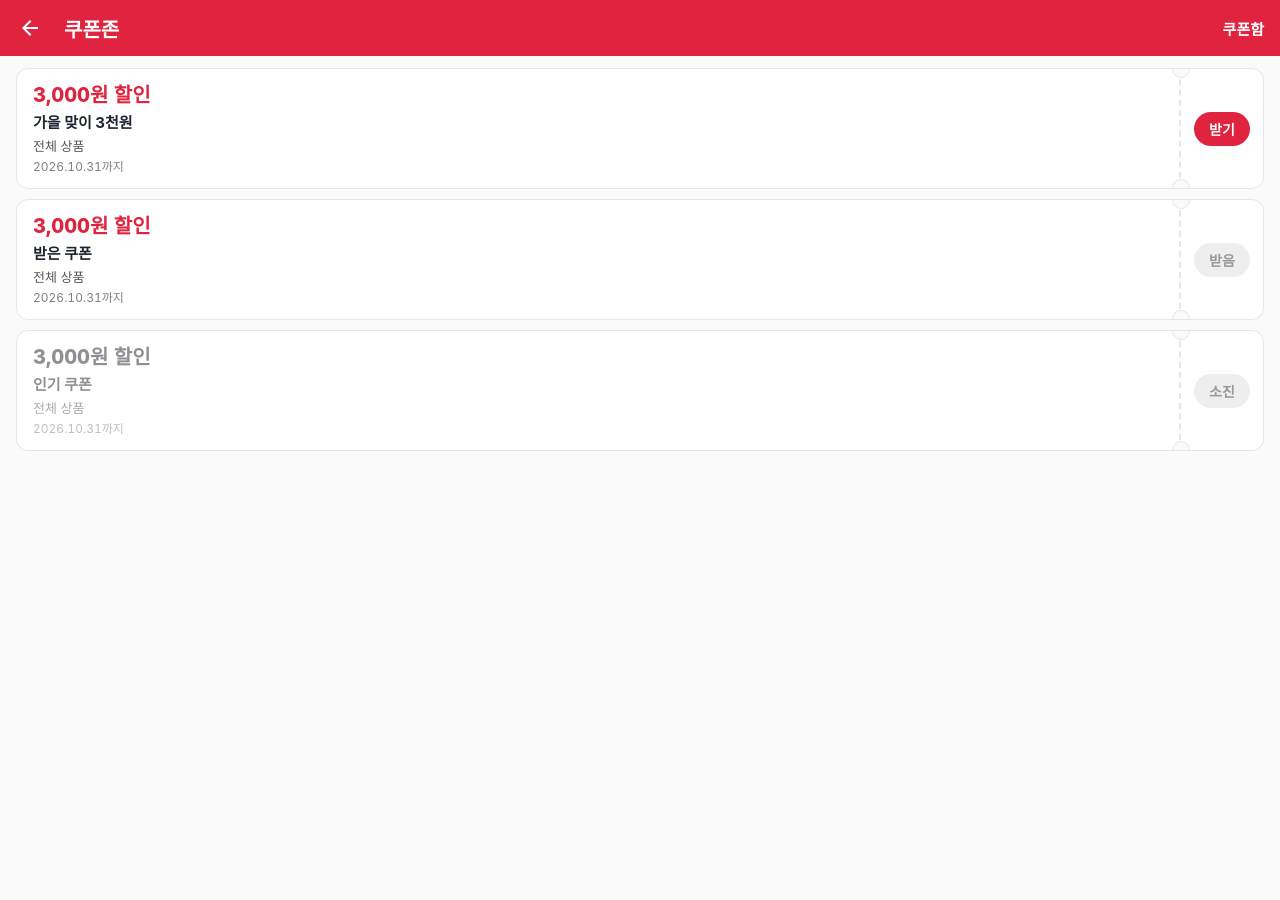
Test: CouponZonePage › downloads a coupon and marks it 받음
This screenshot has width=1280, height=900.
Expected: the text "2026.10.31까지" is shown 3 times, [33,159,124,174]; [33,290,124,305]; [33,421,124,436]
Expected: the text "3,000원 할인" is shown 3 times, [33,83,151,107]; [33,214,151,238]; [33,345,151,369]
Click the button with aria-label "가을 맞이 3천원 받기".
click(1222, 128)  # box [1194,112,1250,146]
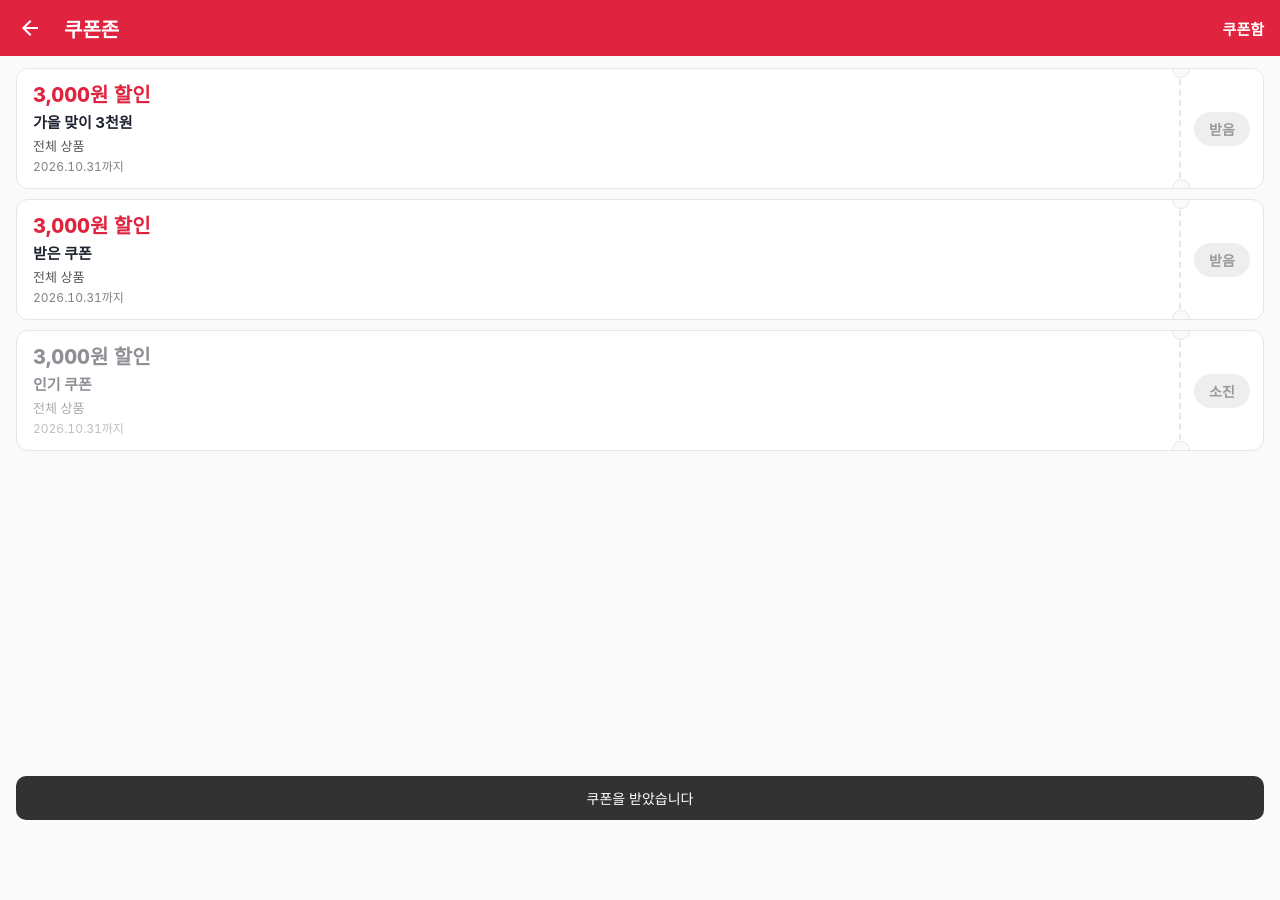
Expected: the text "쿠폰을 받았습니다" is shown, [16,776,1264,820]
Expected: the button with aria-label "가을 맞이 3천원 받음" is disabled, [1194,112,1250,146]
